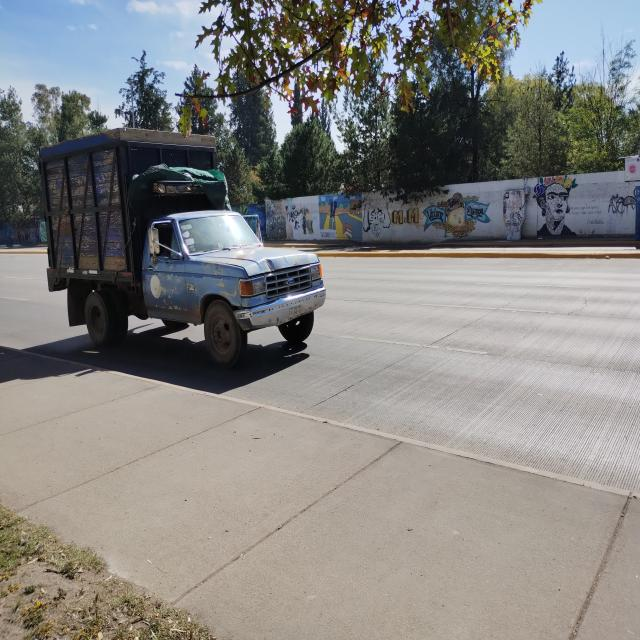Auto: (33, 129, 332, 377)
